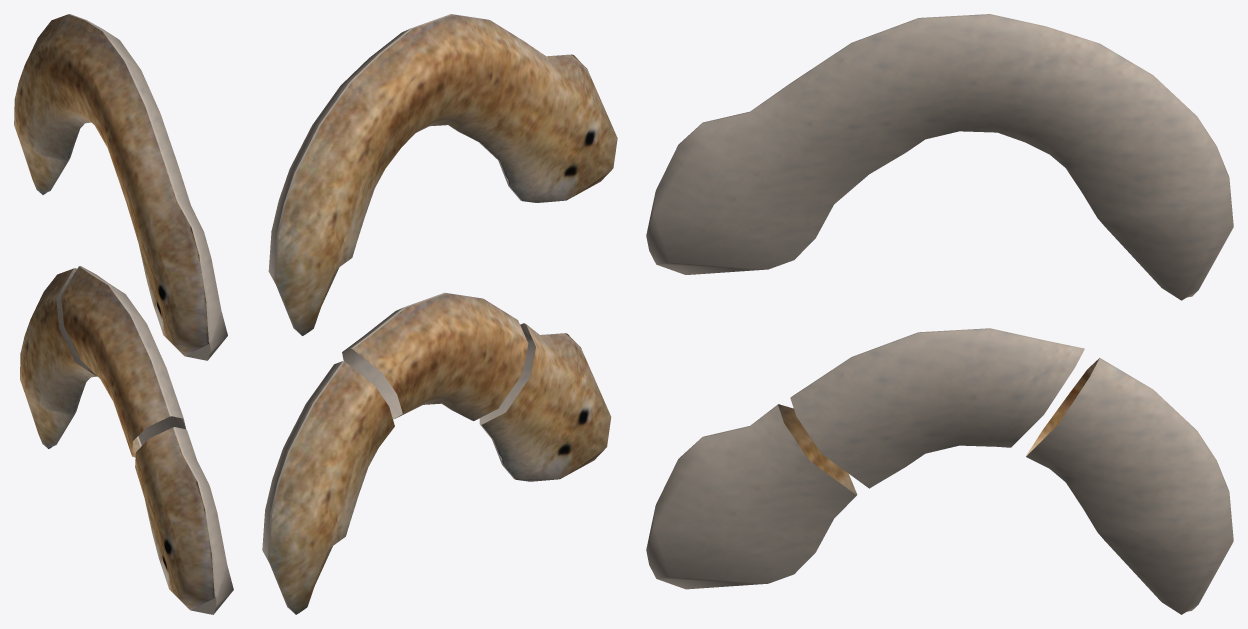
File: planaria.fbx
3 renders of one model, left to right at view 1: azimuth 30°, elevation 25°; view 2: azimuth 150°, elevation 25°; view 3: azimuth 270°, elevation 25°, orthographic. The views are drawn at different scales.
Parts seen in each view (by area): view 1: Planaria_worm, polySurface7, polySurface8, polySurface6; view 2: Planaria_worm, polySurface6, polySurface7, polySurface8; view 3: Planaria_worm, polySurface6, polySurface7, polySurface8.
Boxes of the visible parts, box(x1,y1,x2,y2) form: Planaria_worm: box(14, 14, 227, 360); polySurface7: box(61, 266, 185, 457); polySurface8: box(135, 427, 233, 614); polySurface6: box(20, 268, 97, 448); Planaria_worm: box(268, 14, 617, 335); polySurface6: box(262, 361, 394, 614); polySurface7: box(342, 292, 528, 420); polySurface8: box(479, 323, 611, 481); Planaria_worm: box(646, 14, 1233, 300); polySurface6: box(1026, 358, 1233, 614); polySurface7: box(790, 328, 1084, 488); polySurface8: box(646, 404, 857, 589).
Bounding box in the file's own units: 6.55 × 28.68 × 25.92.
Materials: 1 (1 with a texture image).
